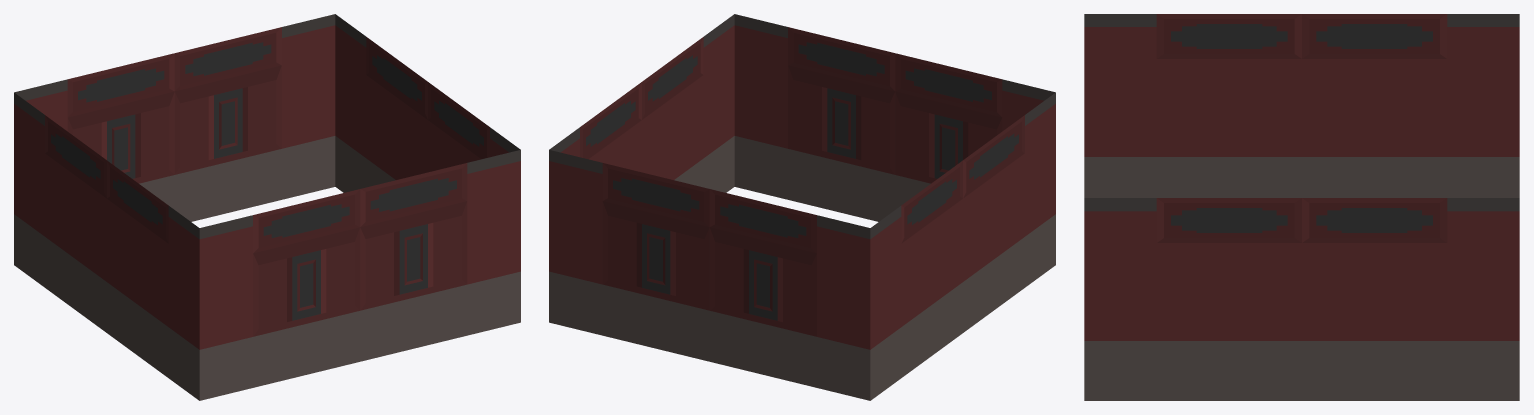
Rendered from StackA-Sm_ALOD1.fbx.
3 views of the same model, side by side, from view 1: azimuth 30°, elevation 25°; view 2: azimuth 150°, elevation 25°; view 3: azimuth 270°, elevation 25° (orthographic). The views are drawn at different scales.
Visible parts, largest first — view 1: StackA-Sm_ALOD1; view 2: StackA-Sm_ALOD1; view 3: StackA-Sm_ALOD1.
Boxes of the visible parts, x1,y1,x2,y2 form: StackA-Sm_ALOD1: (14,14,520,400); StackA-Sm_ALOD1: (549,14,1055,400); StackA-Sm_ALOD1: (1084,14,1519,400).
Bounding box in the file's own units: 750 × 386 × 750.
